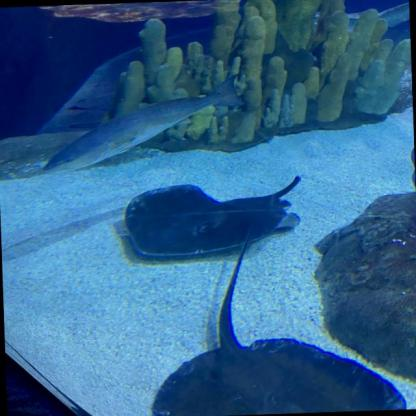fish: (33, 71, 252, 177)
stingray: (147, 333, 407, 415), (122, 179, 292, 258)
